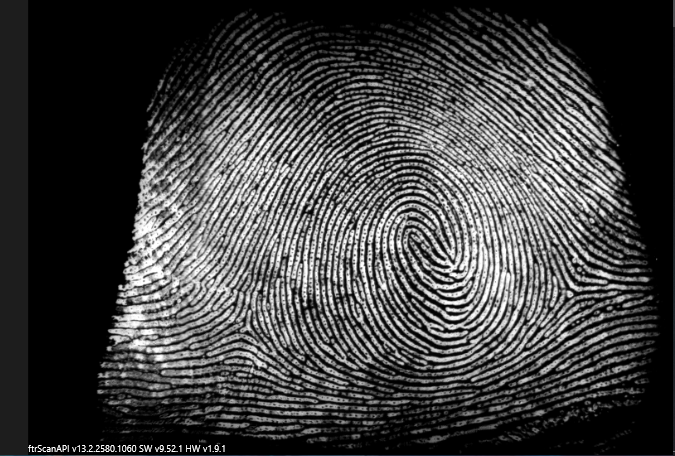deltas: (541, 256, 593, 314), (213, 297, 267, 352)
nucleo: (385, 202, 446, 269)
